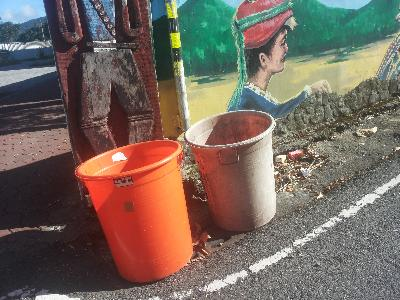bucket: (73, 138, 195, 286), (184, 110, 278, 234)
